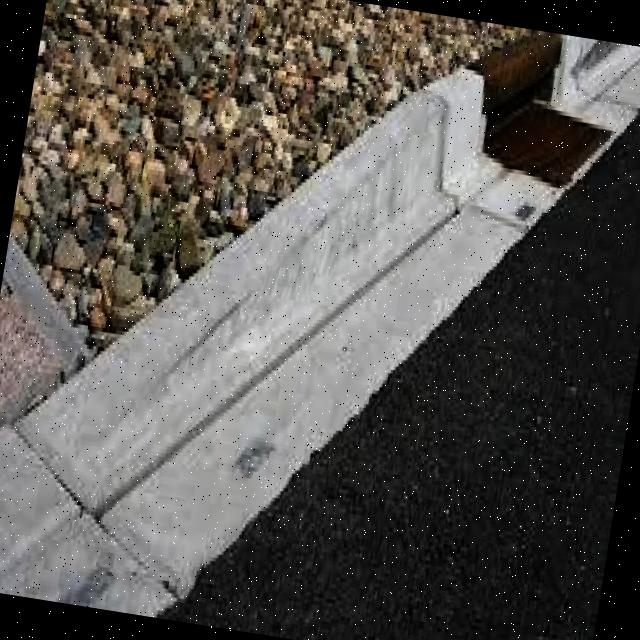curb: (1, 150, 447, 640), (327, 86, 553, 294), (449, 21, 640, 205)
